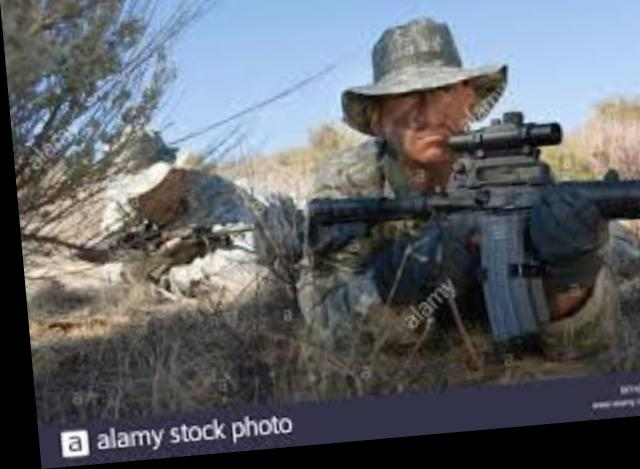other: (250, 26, 624, 375)
